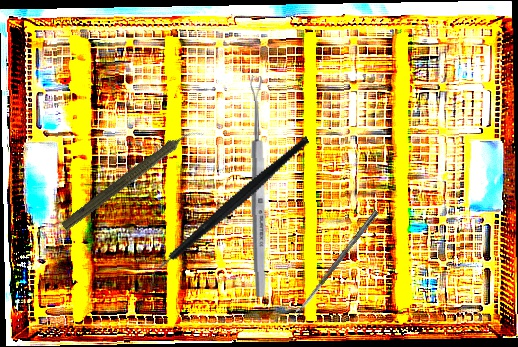Chopper: (118, 135, 339, 292)
Handpiece: (58, 119, 206, 237)
Surgical Spoon: (293, 209, 379, 317), (249, 75, 268, 298)
